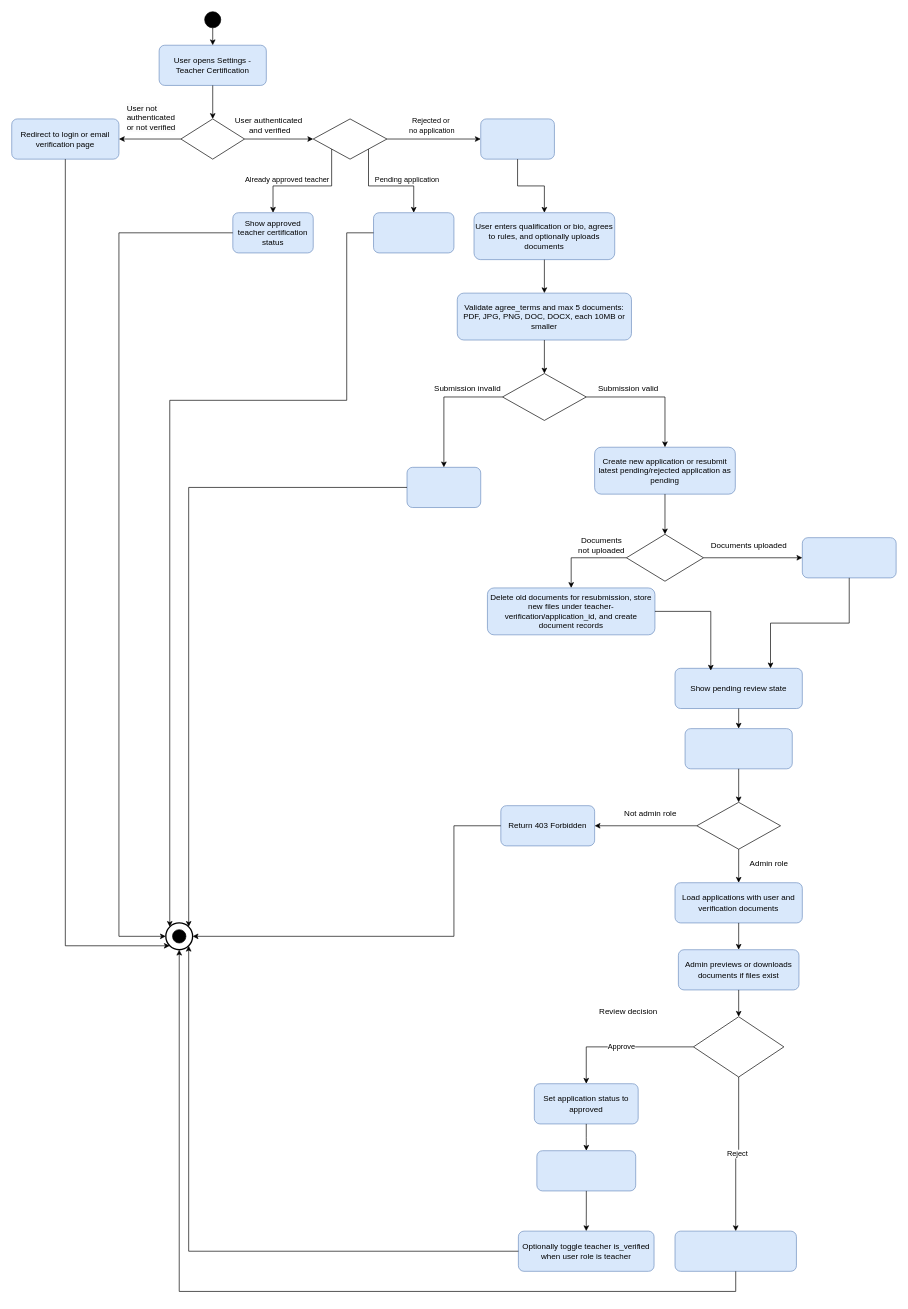
Some shapes in this 908 by 1309 pixel diagram are drawn without their labels. Each missing label, with the centre of its shape:
"Admin opens Admin Teacher Applications page" goes at point 738,748.
"Keep application without new document records" goes at point 849,557.
"Set status to rejected and store optional admin note" goes at point 735,1250.
"Show application form and rules" goes at point 517,138.
"Show application under review" goes at point 413,232.
"Show validation error" goes at point 443,487.
"Update applicant role to teacher" goes at point 586,1170.
